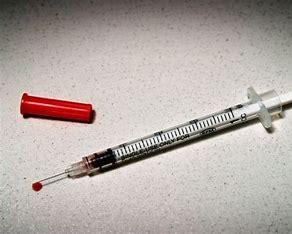Syringe: (27, 82, 292, 192)
